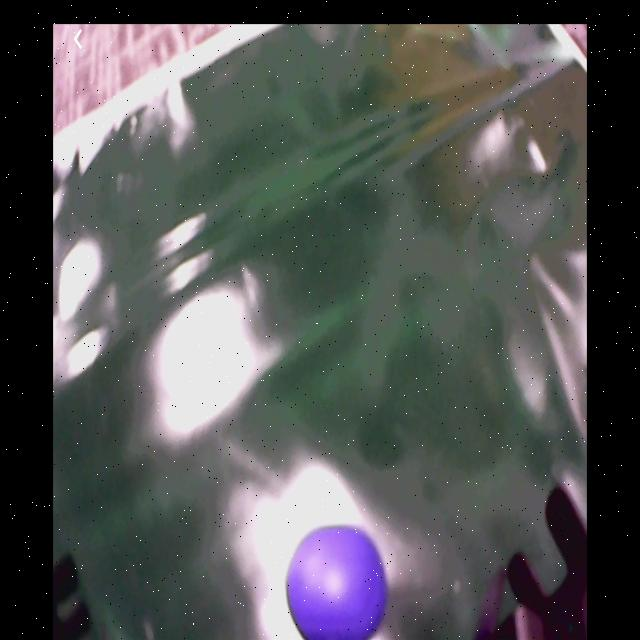ball: (286, 525, 388, 640)
